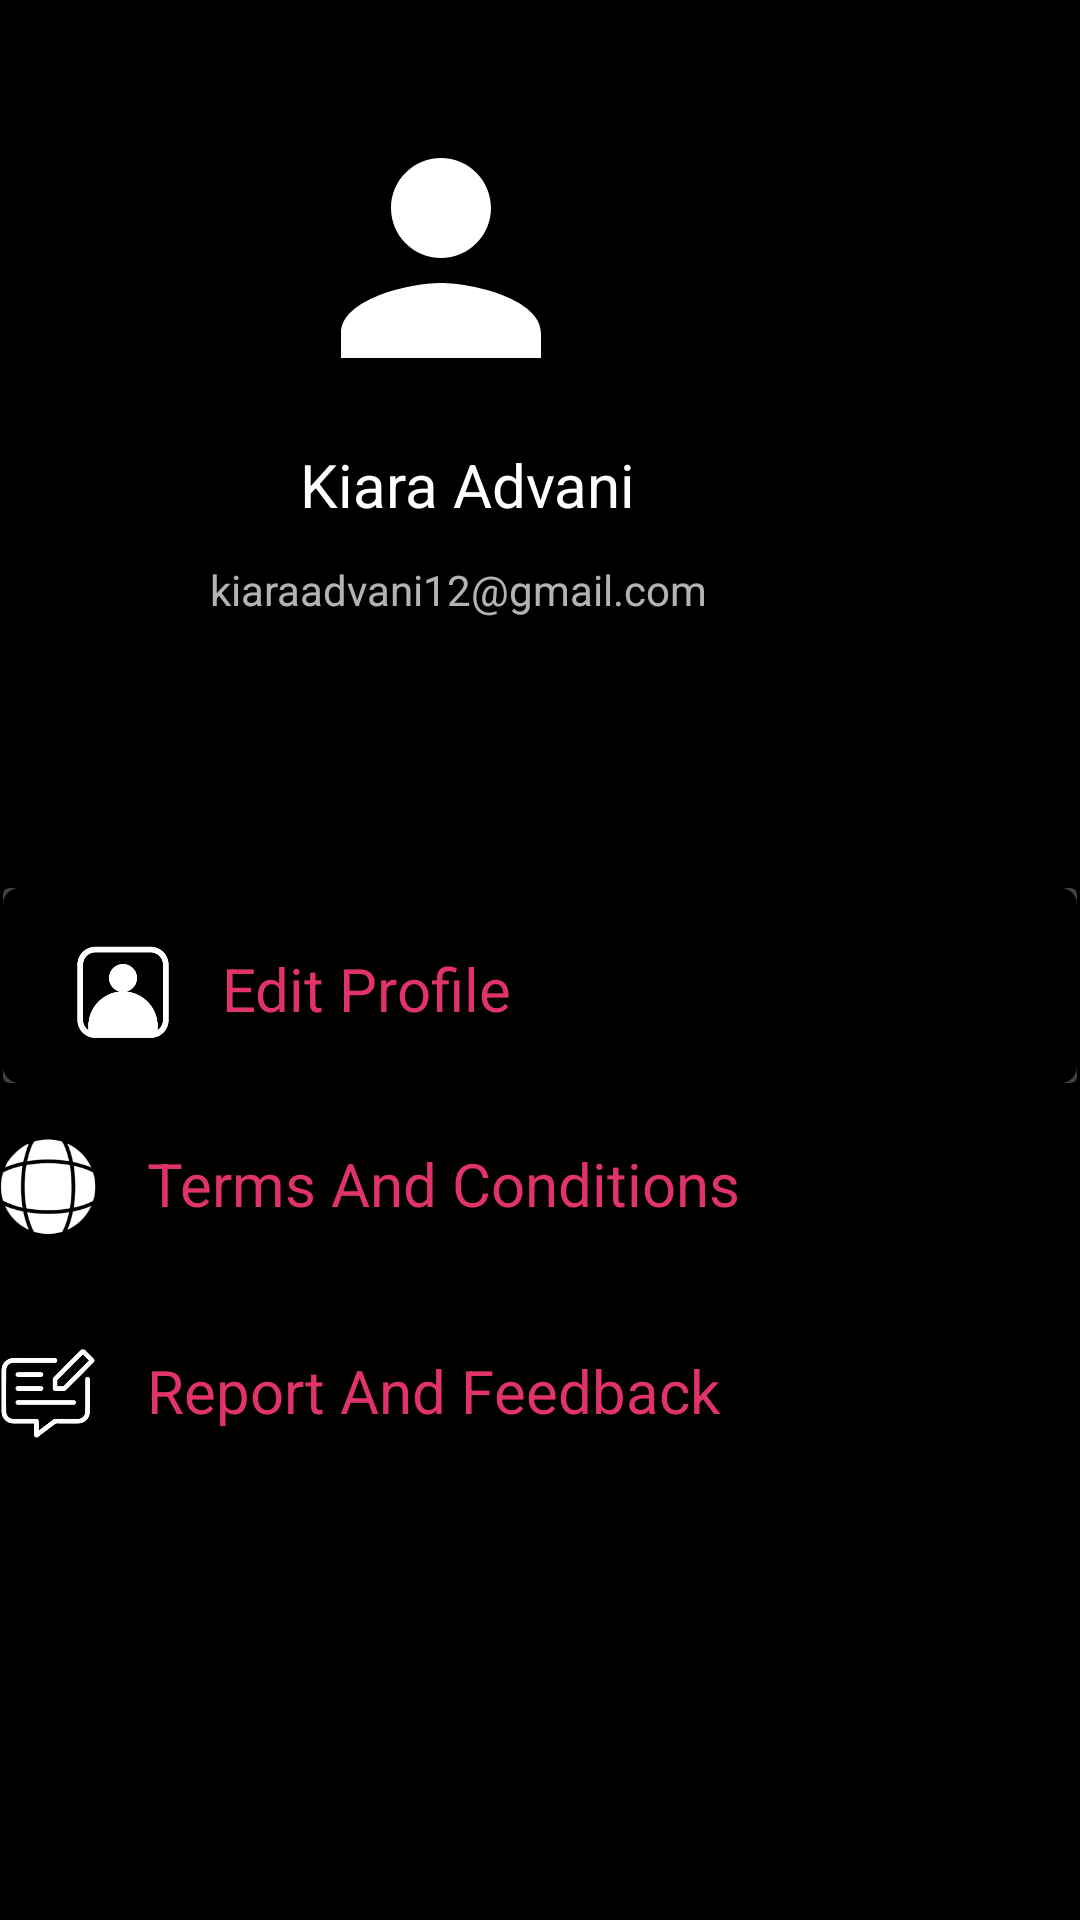

Screen size 1080 × 1920. Icon name, then its center in pixels as (x=x, y=y):
person: (x=441, y=258)
